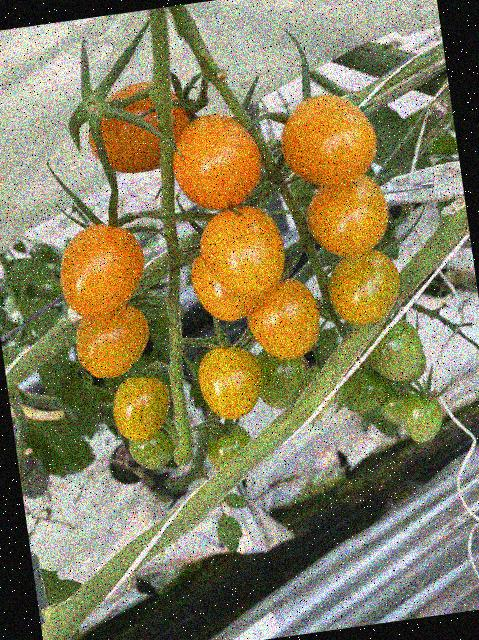l_green: (360, 314, 428, 386), (252, 343, 314, 412), (125, 415, 181, 471), (338, 361, 391, 417), (203, 420, 256, 472), (400, 389, 447, 445), (379, 386, 416, 426)
l_half_ripened: (80, 76, 196, 179), (275, 87, 382, 191), (167, 109, 267, 215), (53, 218, 152, 323), (193, 199, 290, 306), (302, 171, 395, 263), (242, 273, 326, 365), (70, 301, 155, 383), (323, 246, 404, 330), (187, 239, 264, 326), (195, 343, 268, 423), (108, 372, 177, 444)
